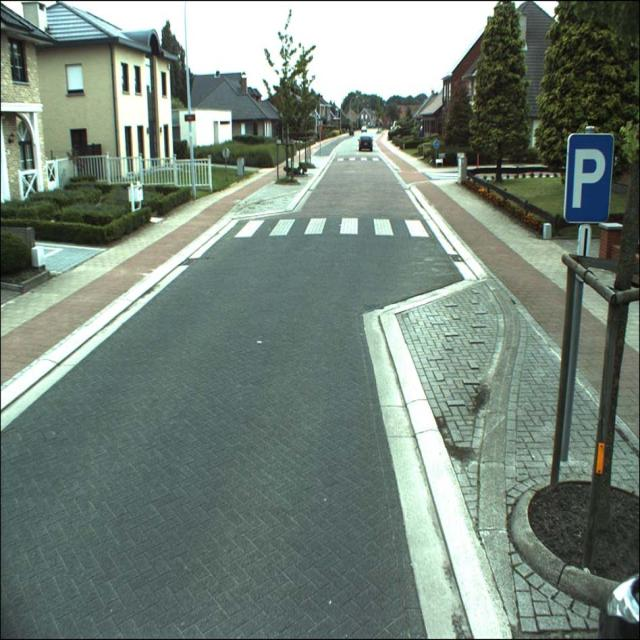park: (564, 134, 612, 222)
